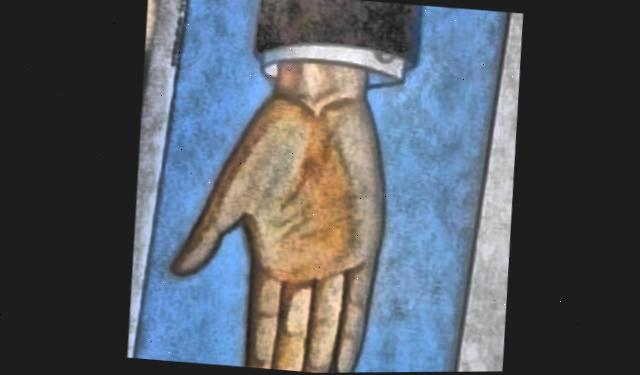La Mano: (132, 0, 507, 373)
